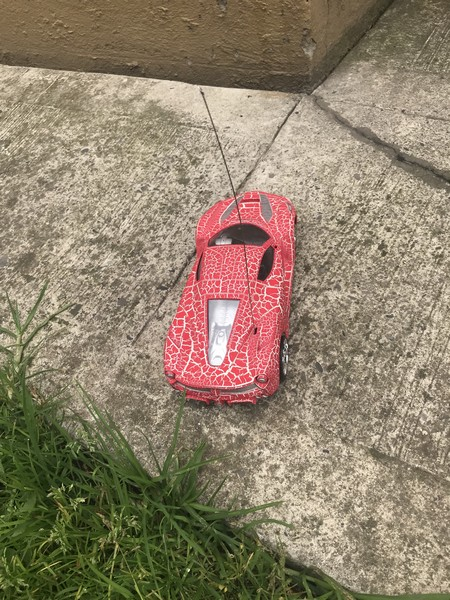RC: (162, 191, 296, 411)
